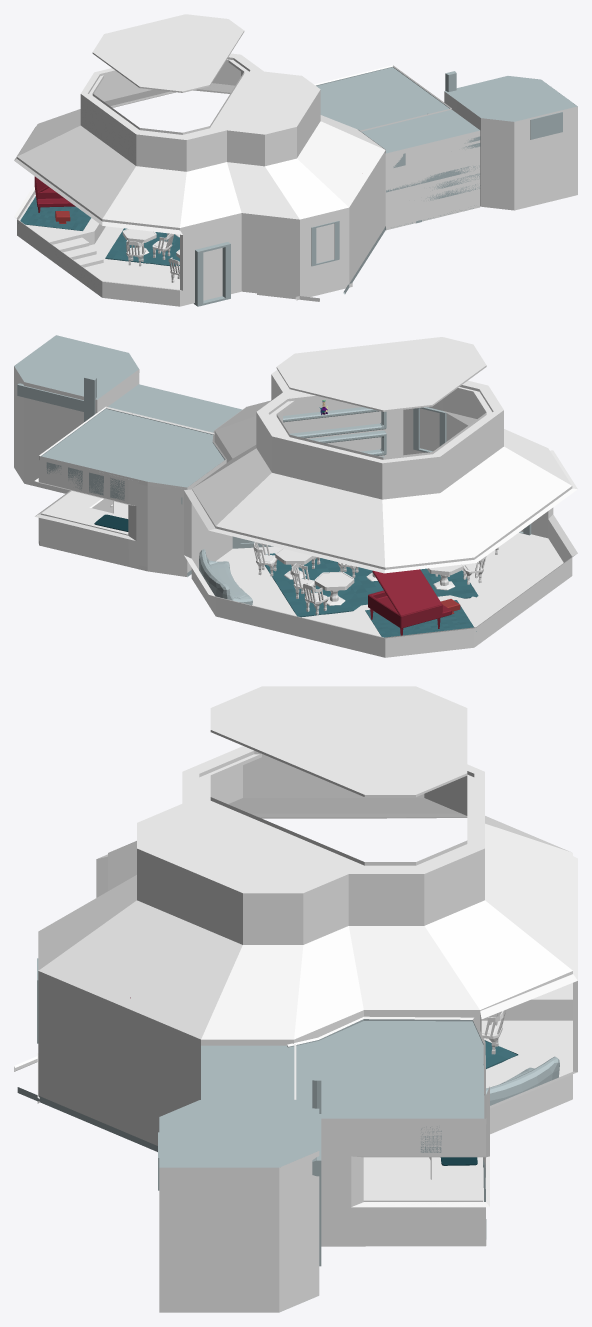
The picture shows the model from 3 angles, top to bottom: view 1: azimuth 30°, elevation 25°; view 2: azimuth 150°, elevation 25°; view 3: azimuth 270°, elevation 25°; orthographic projection. The views are drawn at different scales.
Parts seen in each view (by area): view 1: BarRoof, AllWalls, LockerRoom, SkyLight, KitchenRoof, BarFloor, LockerRoof, Cube.017, PianoRug, CrowdRug, Cube.015, Cube.022 (+1 smaller); view 2: BarRoof, AllWalls, KitchenRoof, BarFloor, SkyLight, LockerRoom, LockerRoof, CrowdRug, Cube.015, Cube, PianoRug, Cube.014 (+9 smaller); view 3: BarRoof, AllWalls, LockerRoom, SkyLight, KitchenRoof, LockerRoof, BarFloor, Cube, Cube.014.
Part boxes in pixels (bbox=[...]): BarRoof: bbox=[17, 53, 385, 227]; AllWalls: bbox=[14, 65, 480, 306]; LockerRoom: bbox=[444, 71, 577, 210]; SkyLight: bbox=[92, 14, 244, 92]; KitchenRoof: bbox=[316, 67, 479, 153]; BarFloor: bbox=[17, 193, 179, 289]; LockerRoof: bbox=[444, 76, 577, 121]; Cube.017: bbox=[193, 242, 230, 306]; PianoRug: bbox=[18, 196, 90, 230]; CrowdRug: bbox=[105, 228, 179, 266]; Cube.015: bbox=[34, 176, 75, 212]; Cube.022: bbox=[311, 221, 339, 266]; BarRoof: bbox=[192, 369, 571, 567]; AllWalls: bbox=[34, 399, 577, 657]; KitchenRoof: bbox=[41, 384, 242, 489]; BarFloor: bbox=[216, 532, 563, 657]; SkyLight: bbox=[276, 337, 486, 411]; LockerRoom: bbox=[14, 366, 139, 493]; LockerRoof: bbox=[14, 335, 138, 399]; CrowdRug: bbox=[264, 553, 478, 617]; Cube.015: bbox=[368, 569, 451, 635]; Cube: bbox=[41, 491, 128, 535]; PianoRug: bbox=[365, 600, 476, 637]; Cube.014: bbox=[199, 549, 252, 605]; BarRoof: bbox=[38, 746, 572, 1039]; AllWalls: bbox=[14, 813, 577, 1246]; LockerRoom: bbox=[158, 1073, 321, 1312]; SkyLight: bbox=[210, 686, 467, 797]; KitchenRoof: bbox=[201, 1021, 485, 1118]; LockerRoof: bbox=[159, 1100, 319, 1167]; BarFloor: bbox=[481, 983, 572, 1088]; Cube: bbox=[363, 1157, 482, 1201]; Cube.014: bbox=[486, 1056, 559, 1105].
Size of the model in its own units: 151 by 59.69 by 97.03.
